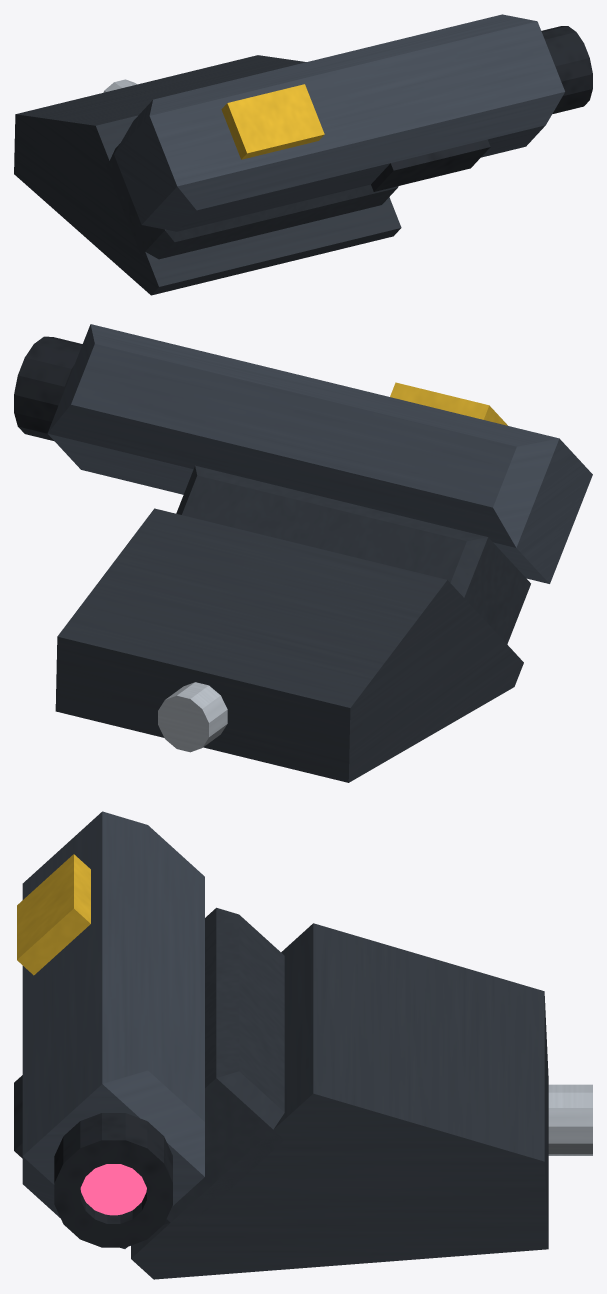
Rendered from sight_laser_canted_v2.glb.
3 renders of one model, top to bottom at view 1: azimuth 30°, elevation 25°; view 2: azimuth 150°, elevation 25°; view 3: azimuth 270°, elevation 25°, orthographic. The views are drawn at different scales.
Parts seen in each view (by area): view 1: sight_laser_canted_mesh; view 2: sight_laser_canted_mesh; view 3: sight_laser_canted_mesh.
Part boxes in pixels (x1=…): sight_laser_canted_mesh: x1=14, y1=14, x2=592, y2=295; sight_laser_canted_mesh: x1=14, y1=324, x2=592, y2=782; sight_laser_canted_mesh: x1=14, y1=811, x2=592, y2=1279.
Bounding box in the file's own units: 0.088 × 0.0396 × 0.0718.
Materials: 7 (6 with a texture image).
